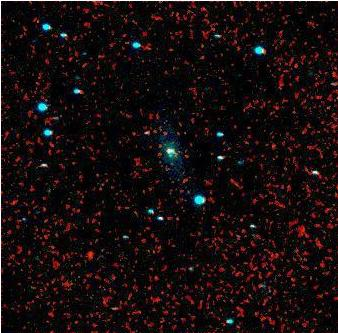star: (77, 240, 107, 270)
